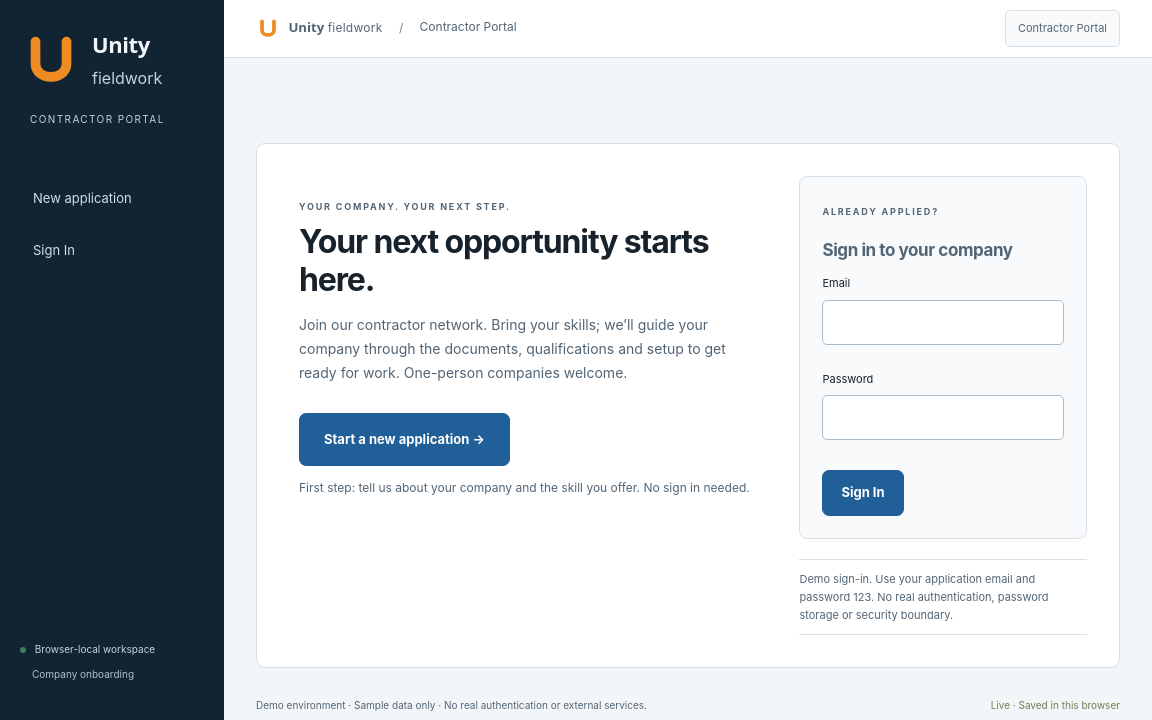
Test: does not restore legacy selection or expose company work anonymously; rejects bad credentials without writes
Expected: the heading "Sign in to your company" is shown, [822,240,1013,260]
Type "shared@example.com" into the field labelled "Email". click: (943, 322)
box: [822,300,1064,344]
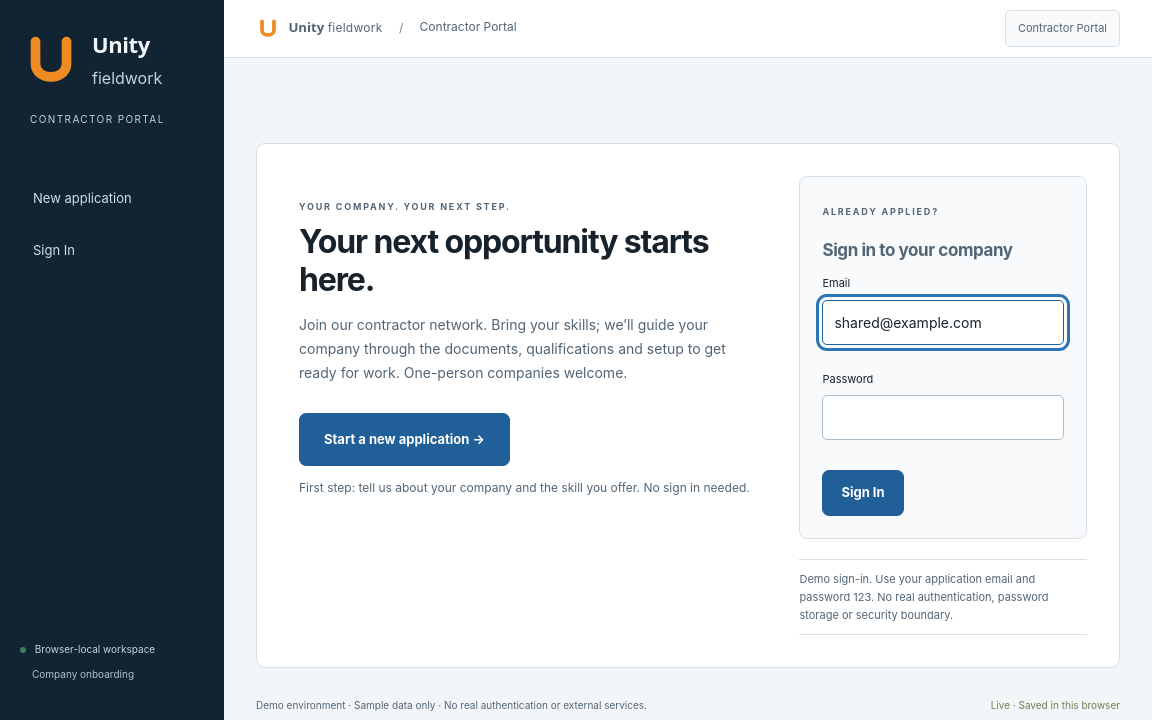
Type "wrong" into the password field labelled "Password". click: (943, 418)
box: [822,395,1064,440]
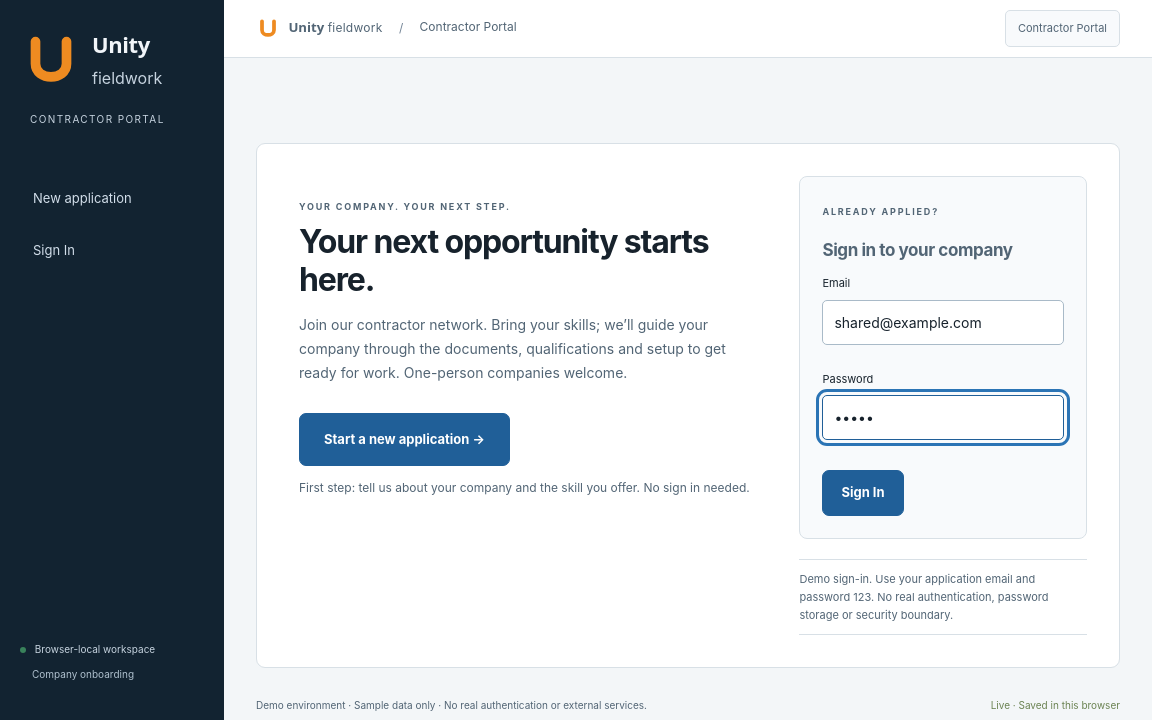
Click the button "Sign In" below "Sign in to your company". click: (863, 493)
box: [822,470,904,516]
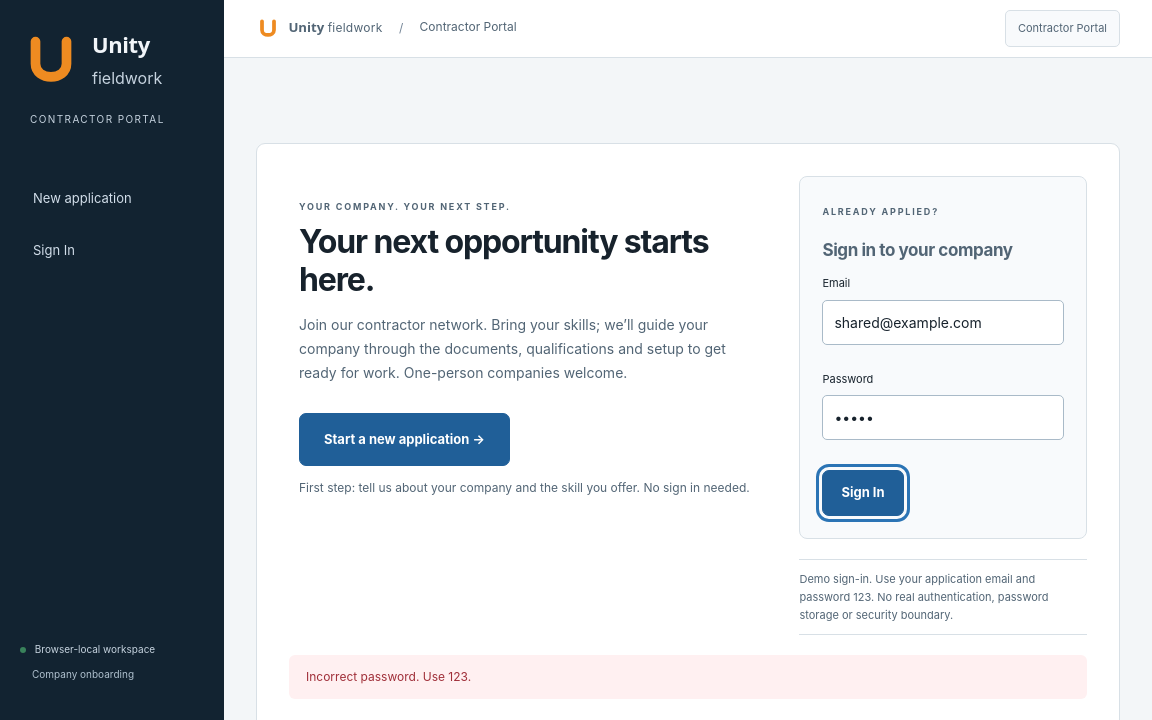
Now the message shows "Incorrect password", box [306,669,471,684]
Replace the text in the field labelled "Email" with "unknown@example.com". click: (943, 322)
box: [822,300,1064,344]
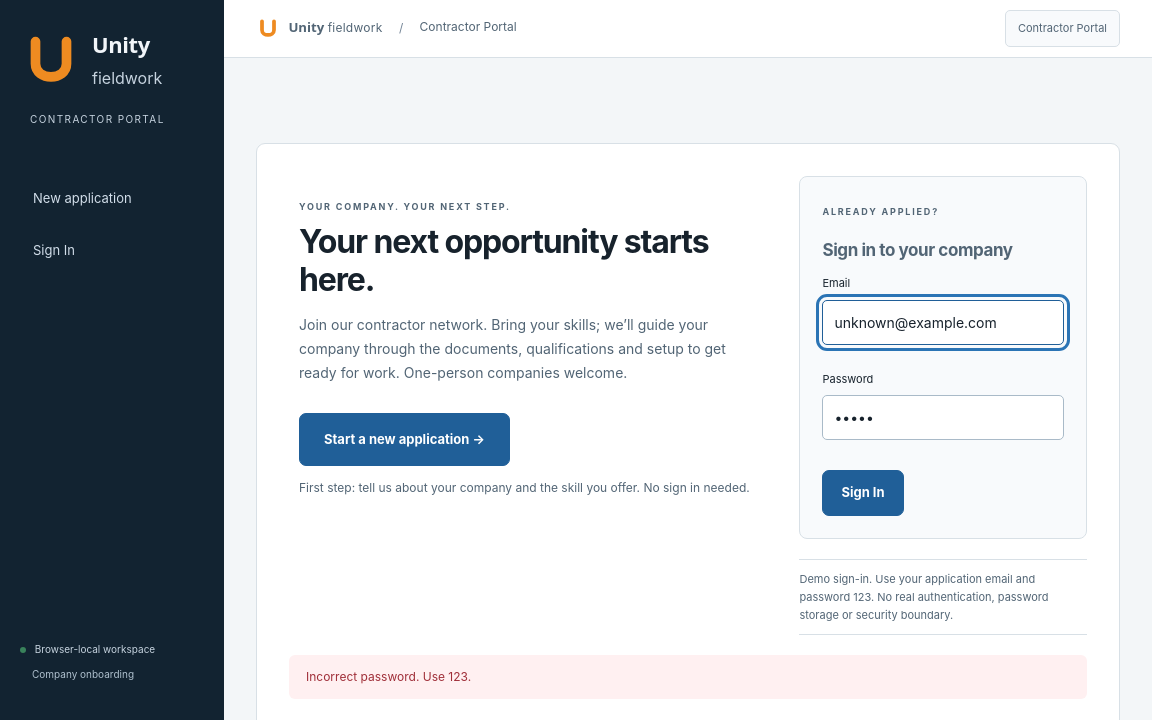
Type "123" into the password field labelled "Password". click: (943, 418)
box: [822,395,1064,440]
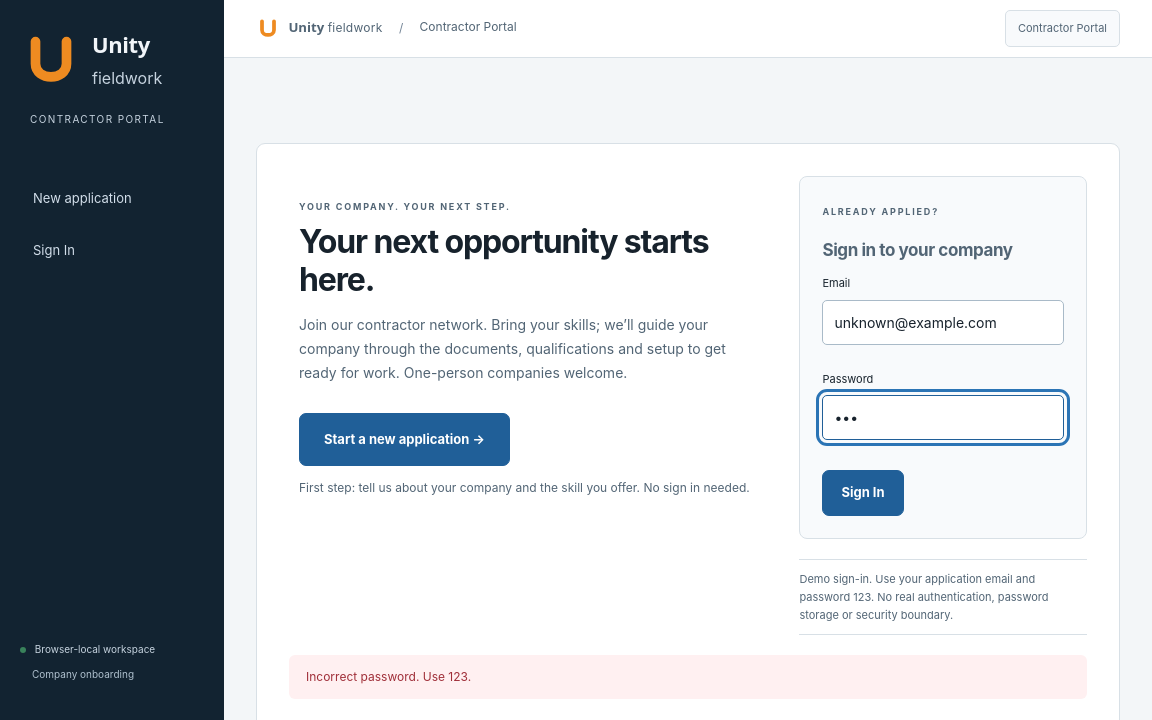
Click the button "Sign In" below "Sign in to your company". click: (863, 493)
box: [822,470,904,516]
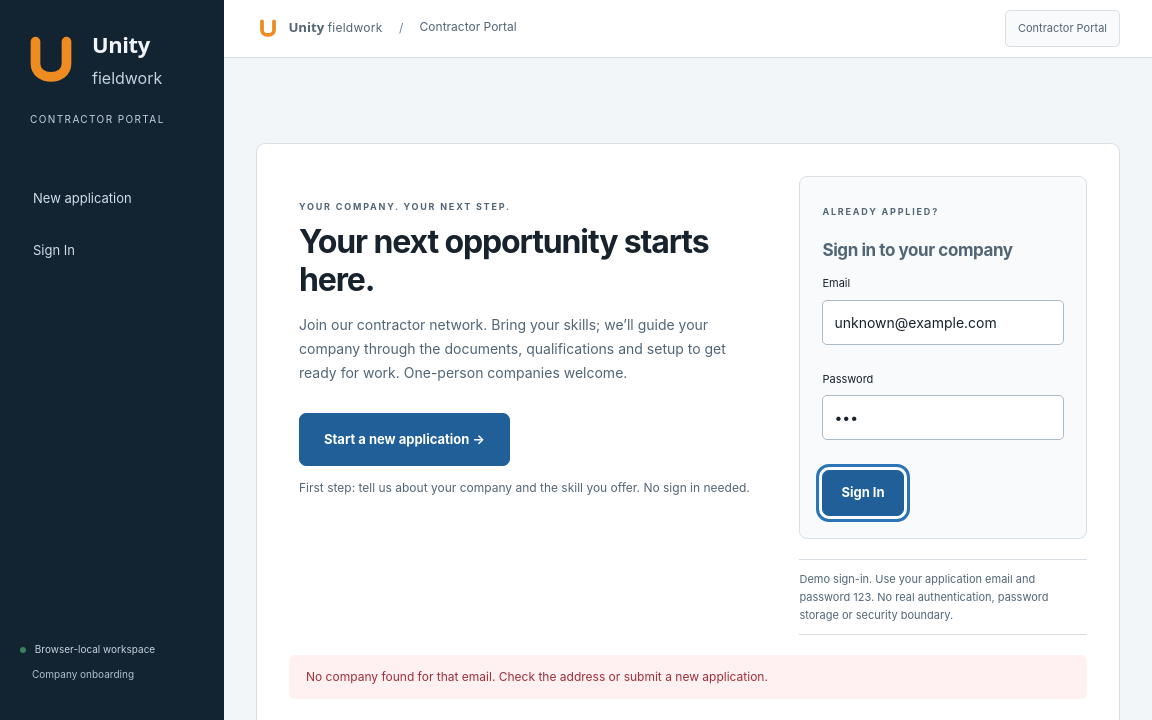
Now the message shows "No company found", box [306,669,768,684]
